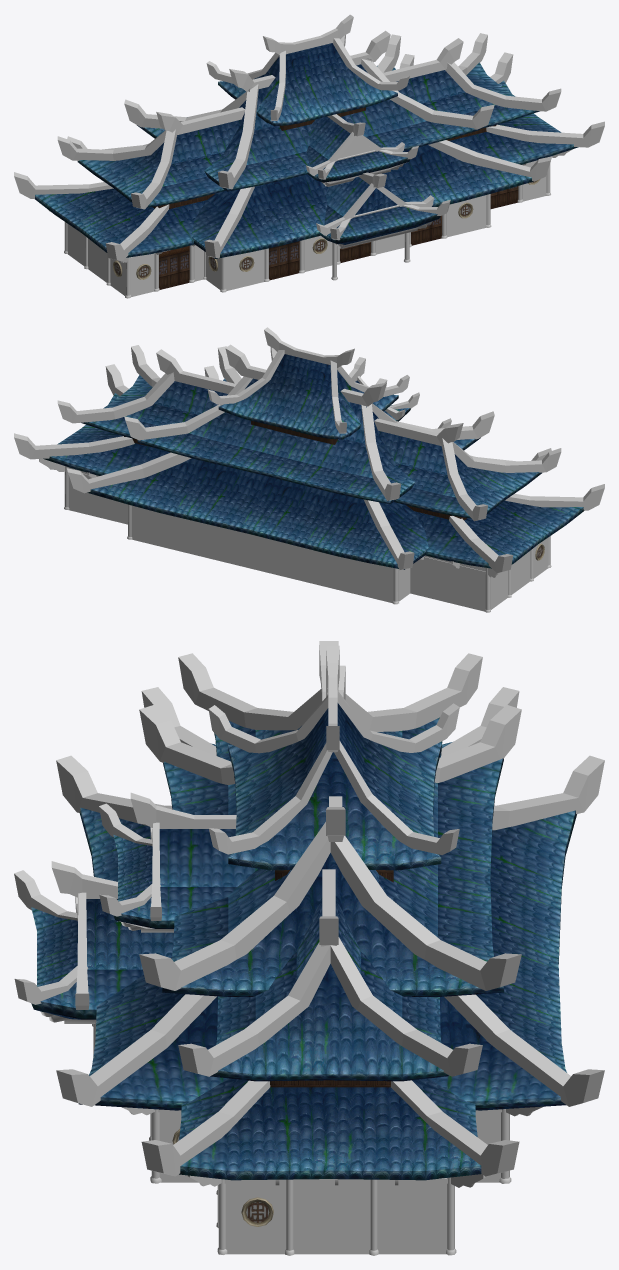
Rendered from environment_Building_luoxiaguan_001_h.FBX.
3 views of the same model, one above another, from view 1: azimuth 30°, elevation 25°; view 2: azimuth 150°, elevation 25°; view 3: azimuth 270°, elevation 25° (orthographic). The views are drawn at different scales.
Parts seen in each view (by area): view 1: environment_Building_luoxiaguan_001_h07, environment_Building_luoxiaguan_001_h05, environment_Building_luoxiaguan_001_h01, environment_Building_luoxiaguan_001_h04, environment_Building_luoxiaguan_001_h08, environment_Building_luoxiaguan_001_h06, environment_Building_luoxiaguan_001_h02, environment_Building_luoxiaguan_001_h03; view 2: environment_Building_luoxiaguan_001_h07, environment_Building_luoxiaguan_001_h05, environment_Building_luoxiaguan_001_h01, environment_Building_luoxiaguan_001_h08, environment_Building_luoxiaguan_001_h04, environment_Building_luoxiaguan_001_h06; view 3: environment_Building_luoxiaguan_001_h07, environment_Building_luoxiaguan_001_h05, environment_Building_luoxiaguan_001_h01, environment_Building_luoxiaguan_001_h08, environment_Building_luoxiaguan_001_h06, environment_Building_luoxiaguan_001_h04.
Part boxes in pixels (box(x1,y1,x2,y2)): environment_Building_luoxiaguan_001_h07: box(35, 43, 578, 258); environment_Building_luoxiaguan_001_h05: box(14, 14, 604, 261); environment_Building_luoxiaguan_001_h01: box(67, 161, 546, 296); environment_Building_luoxiaguan_001_h04: box(152, 107, 518, 289); environment_Building_luoxiaguan_001_h08: box(64, 163, 550, 298); environment_Building_luoxiaguan_001_h06: box(49, 136, 572, 262); environment_Building_luoxiaguan_001_h02: box(113, 179, 540, 279); environment_Building_luoxiaguan_001_h03: box(114, 181, 535, 277); environment_Building_luoxiaguan_001_h07: box(43, 354, 584, 569); environment_Building_luoxiaguan_001_h05: box(14, 327, 604, 573); environment_Building_luoxiaguan_001_h01: box(68, 467, 547, 611); environment_Building_luoxiaguan_001_h08: box(64, 466, 551, 612); environment_Building_luoxiaguan_001_h04: box(124, 421, 466, 520); environment_Building_luoxiaguan_001_h06: box(39, 458, 498, 577); environment_Building_luoxiaguan_001_h07: box(31, 703, 576, 1180); environment_Building_luoxiaguan_001_h05: box(14, 641, 604, 1176); environment_Building_luoxiaguan_001_h01: box(159, 1112, 500, 1254); environment_Building_luoxiaguan_001_h08: box(92, 1019, 511, 1255); environment_Building_luoxiaguan_001_h06: box(40, 870, 543, 1187); environment_Building_luoxiaguan_001_h04: box(270, 870, 393, 1087).
Bounding box in the file's own units: 3896 × 2122 × 1482.
